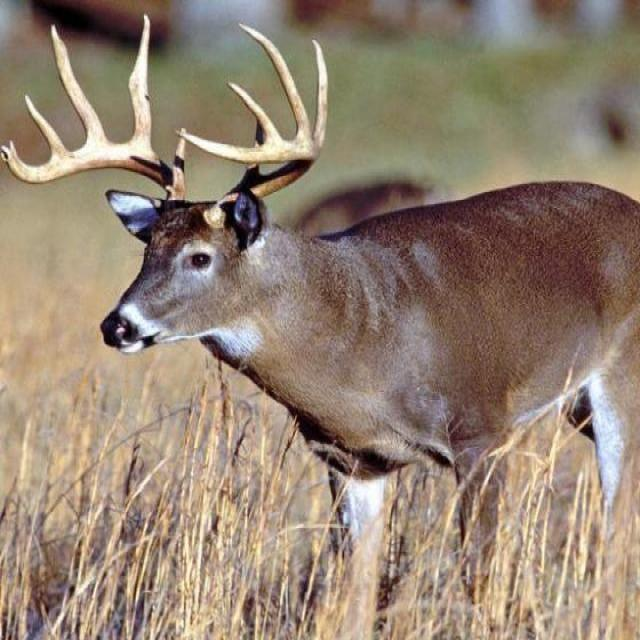deer: (3, 22, 640, 579)
